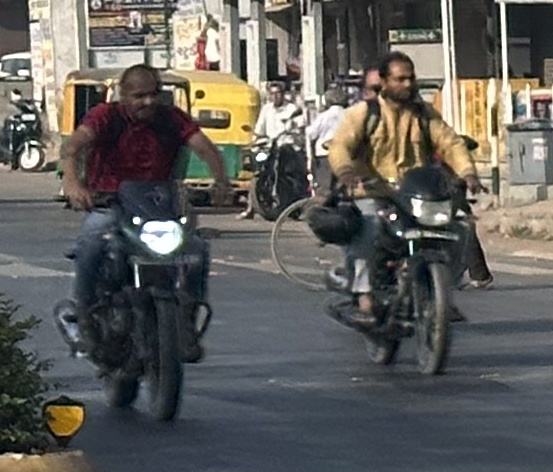BikeWithRider: (45, 54, 236, 430), (314, 51, 491, 378), (240, 70, 317, 227)
NoHelmet: (115, 63, 168, 120), (376, 54, 423, 100), (358, 67, 388, 108), (265, 81, 286, 105)
